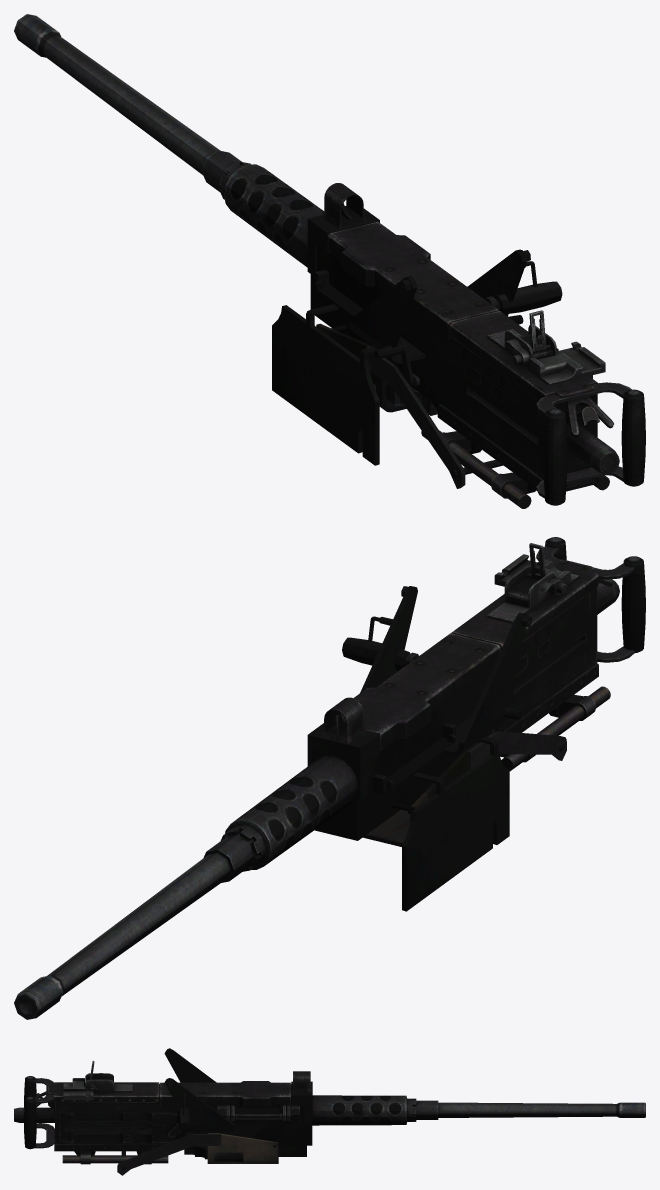
File: gun.obj
The picture shows the model from 3 angles, top to bottom: view 1: azimuth 30°, elevation 25°; view 2: azimuth 150°, elevation 25°; view 3: azimuth 270°, elevation 25°; orthographic projection. The views are drawn at different scales.
Parts seen in each view (by area): view 1: Mesh_0019; view 2: Mesh_0019; view 3: Mesh_0019.
Boxes of the visible parts, x1,y1,x2,y2 form: Mesh_0019: (14,14,645,508); Mesh_0019: (14,537,645,1019); Mesh_0019: (14,1048,645,1175).
Size of the model in its own units: 28.44 by 31.42 by 161.
1 material, 1 textured.
